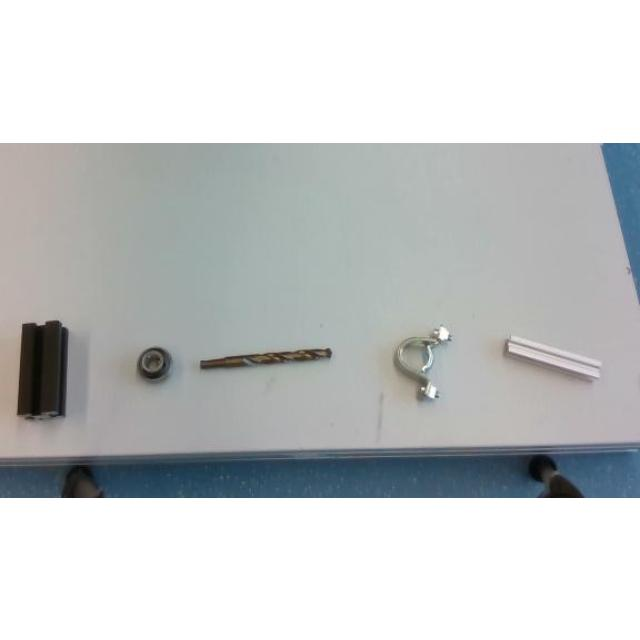Bearing2: (137, 346, 171, 380)
Drill: (200, 347, 332, 368)
F20_20_G: (506, 334, 602, 378)
Housing: (393, 324, 451, 398)
S40_40_B: (17, 320, 67, 418)
